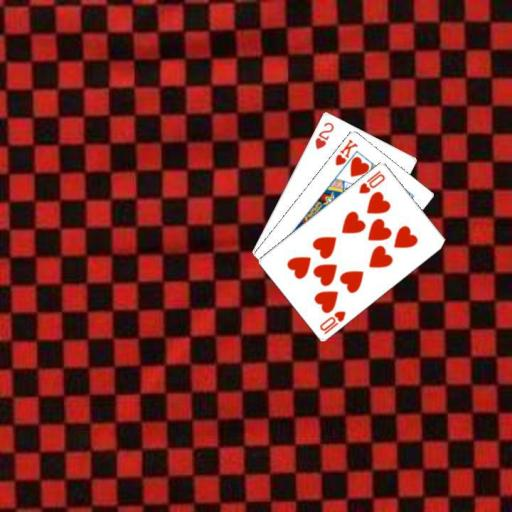10H: (316, 307, 347, 335), (356, 167, 386, 195)
2H: (312, 119, 336, 151)
KH: (332, 136, 359, 167)
